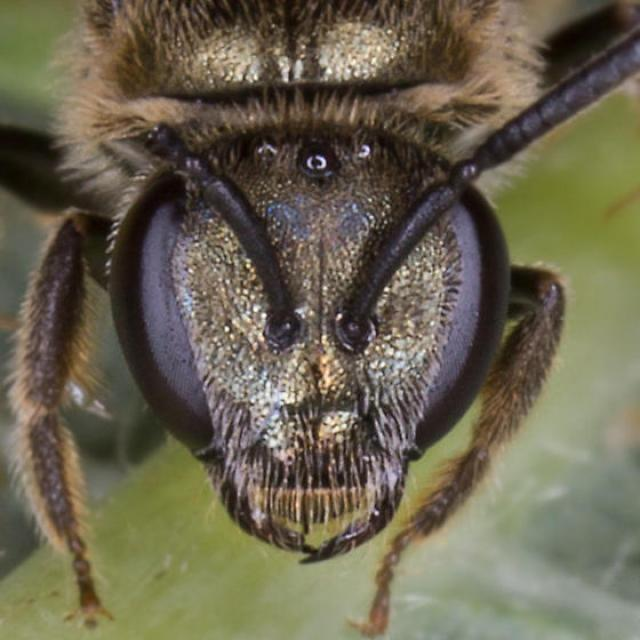Meliponula: (28, 0, 581, 577)
